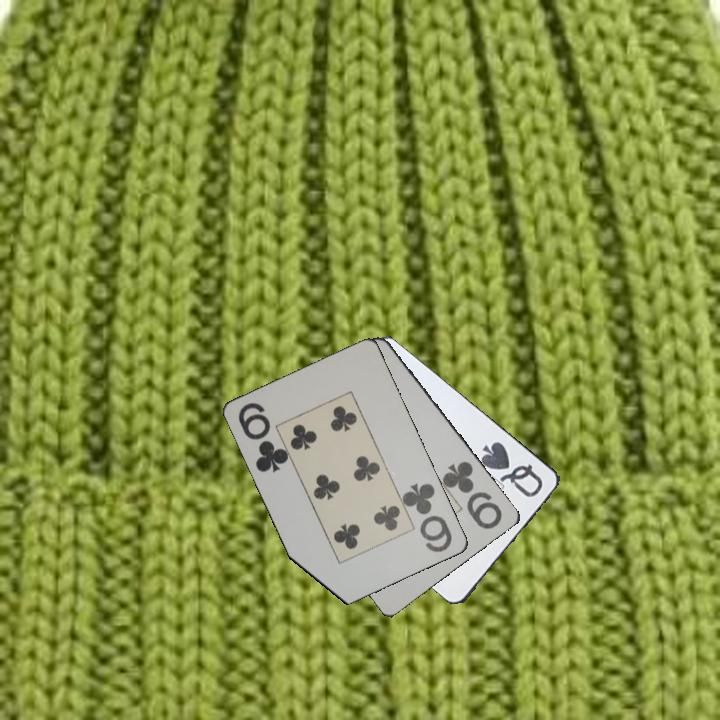6c: (235, 399, 291, 476), (400, 480, 455, 556)
9c: (440, 458, 506, 532)
Qs: (477, 438, 546, 500)
